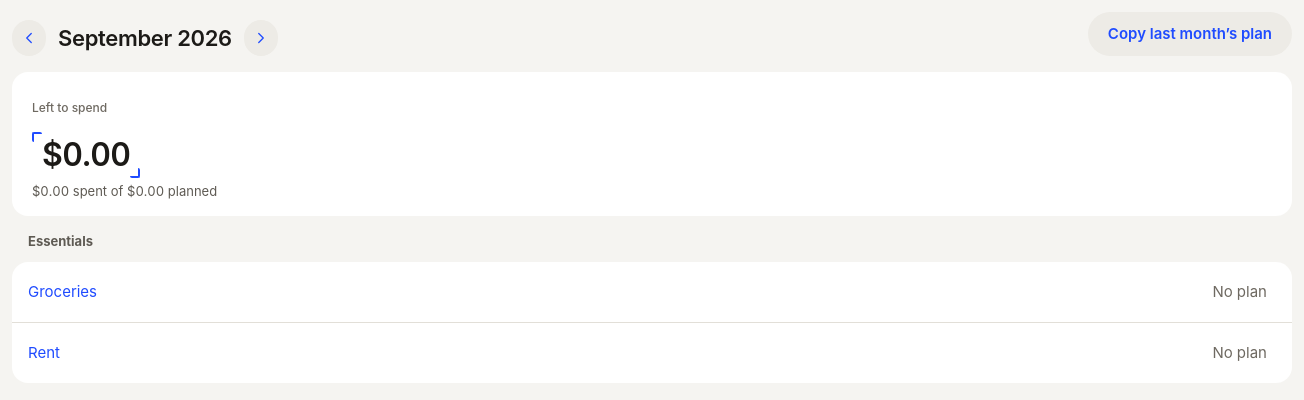
BudgetList › moves between months
Click the button named "Previous month": [29, 38] box x1=12 y1=20 x2=46 y2=56
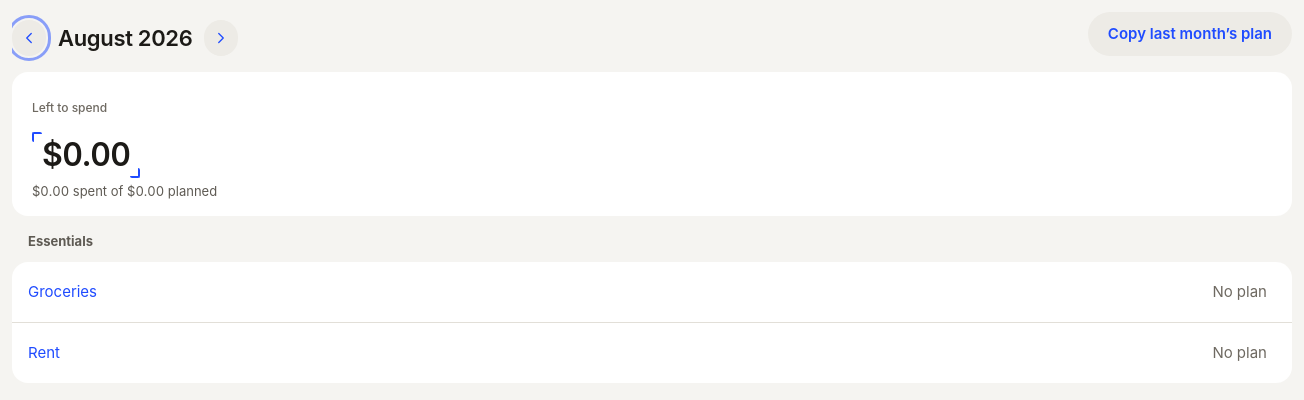
Now the heading "September 2026" no longer shows "September 2026"
